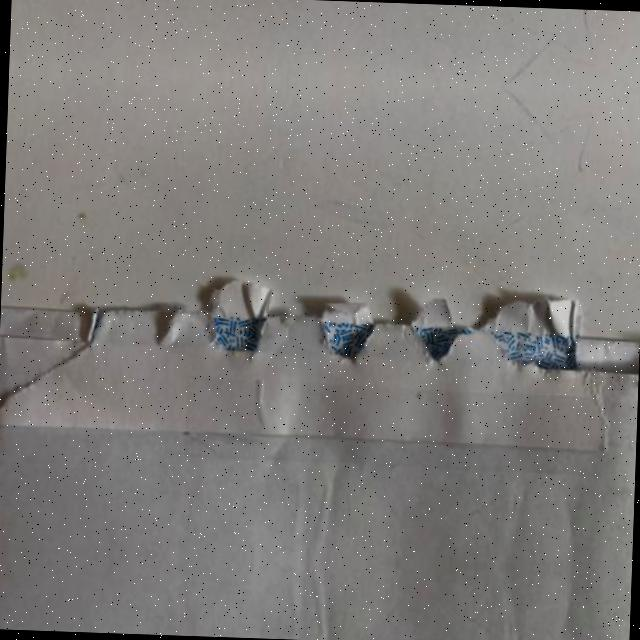paper: (0, 239, 640, 571), (0, 549, 631, 640)
